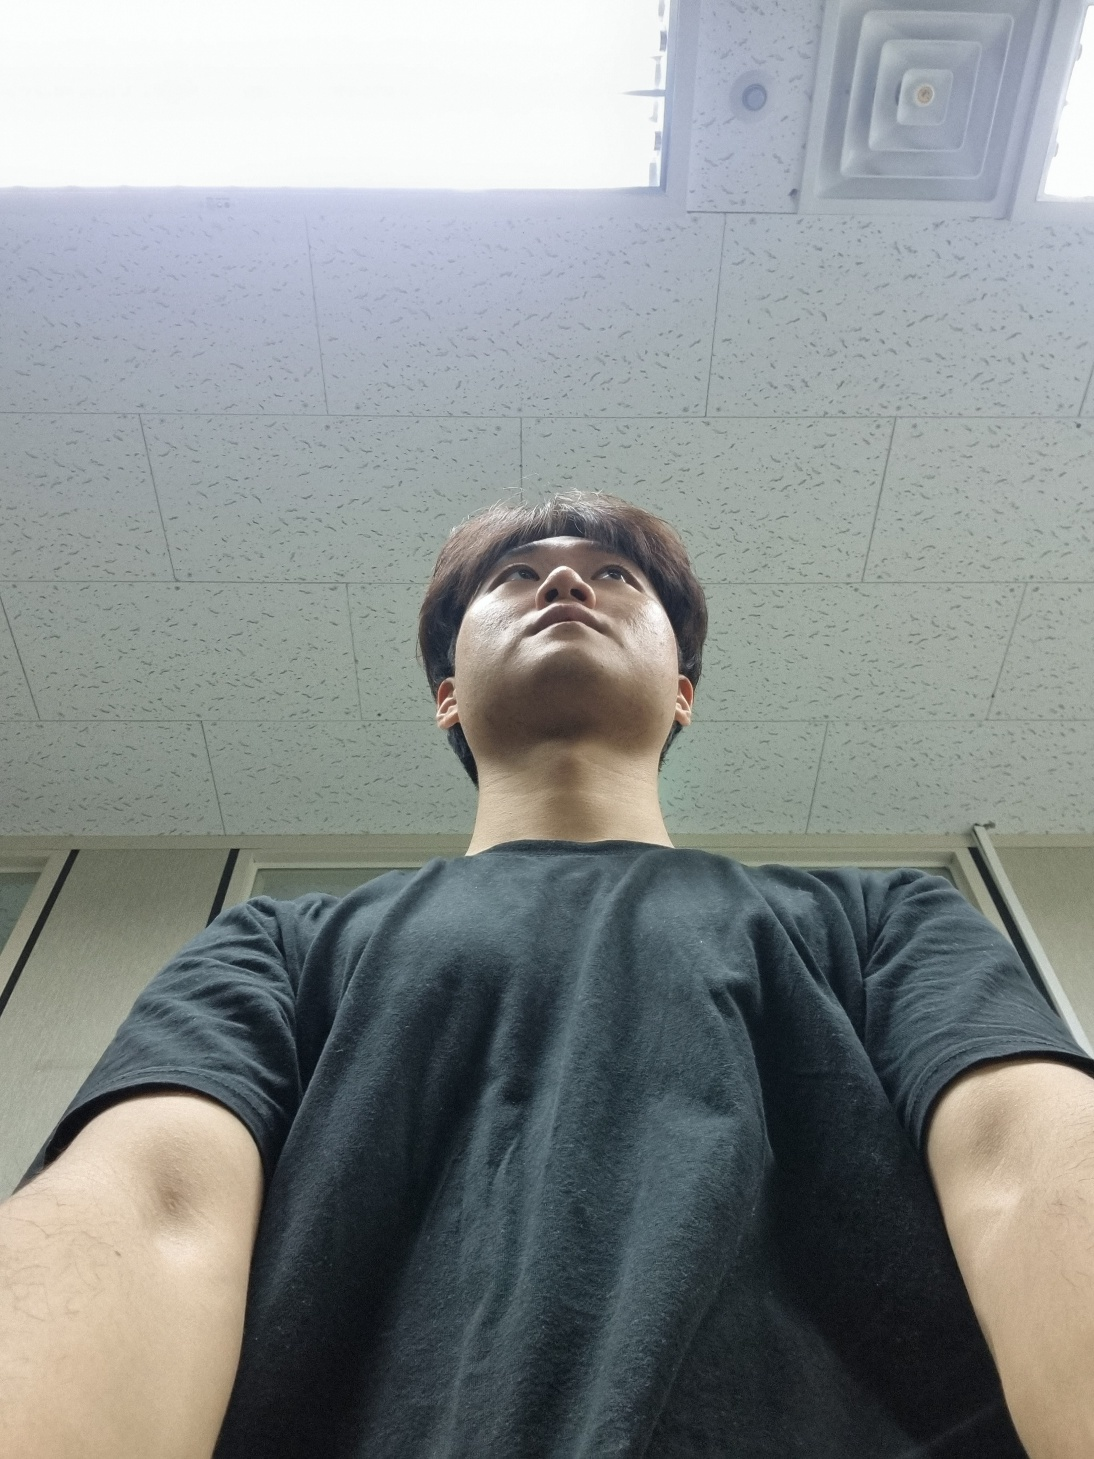Non-Helmet: (324, 434, 803, 812)
